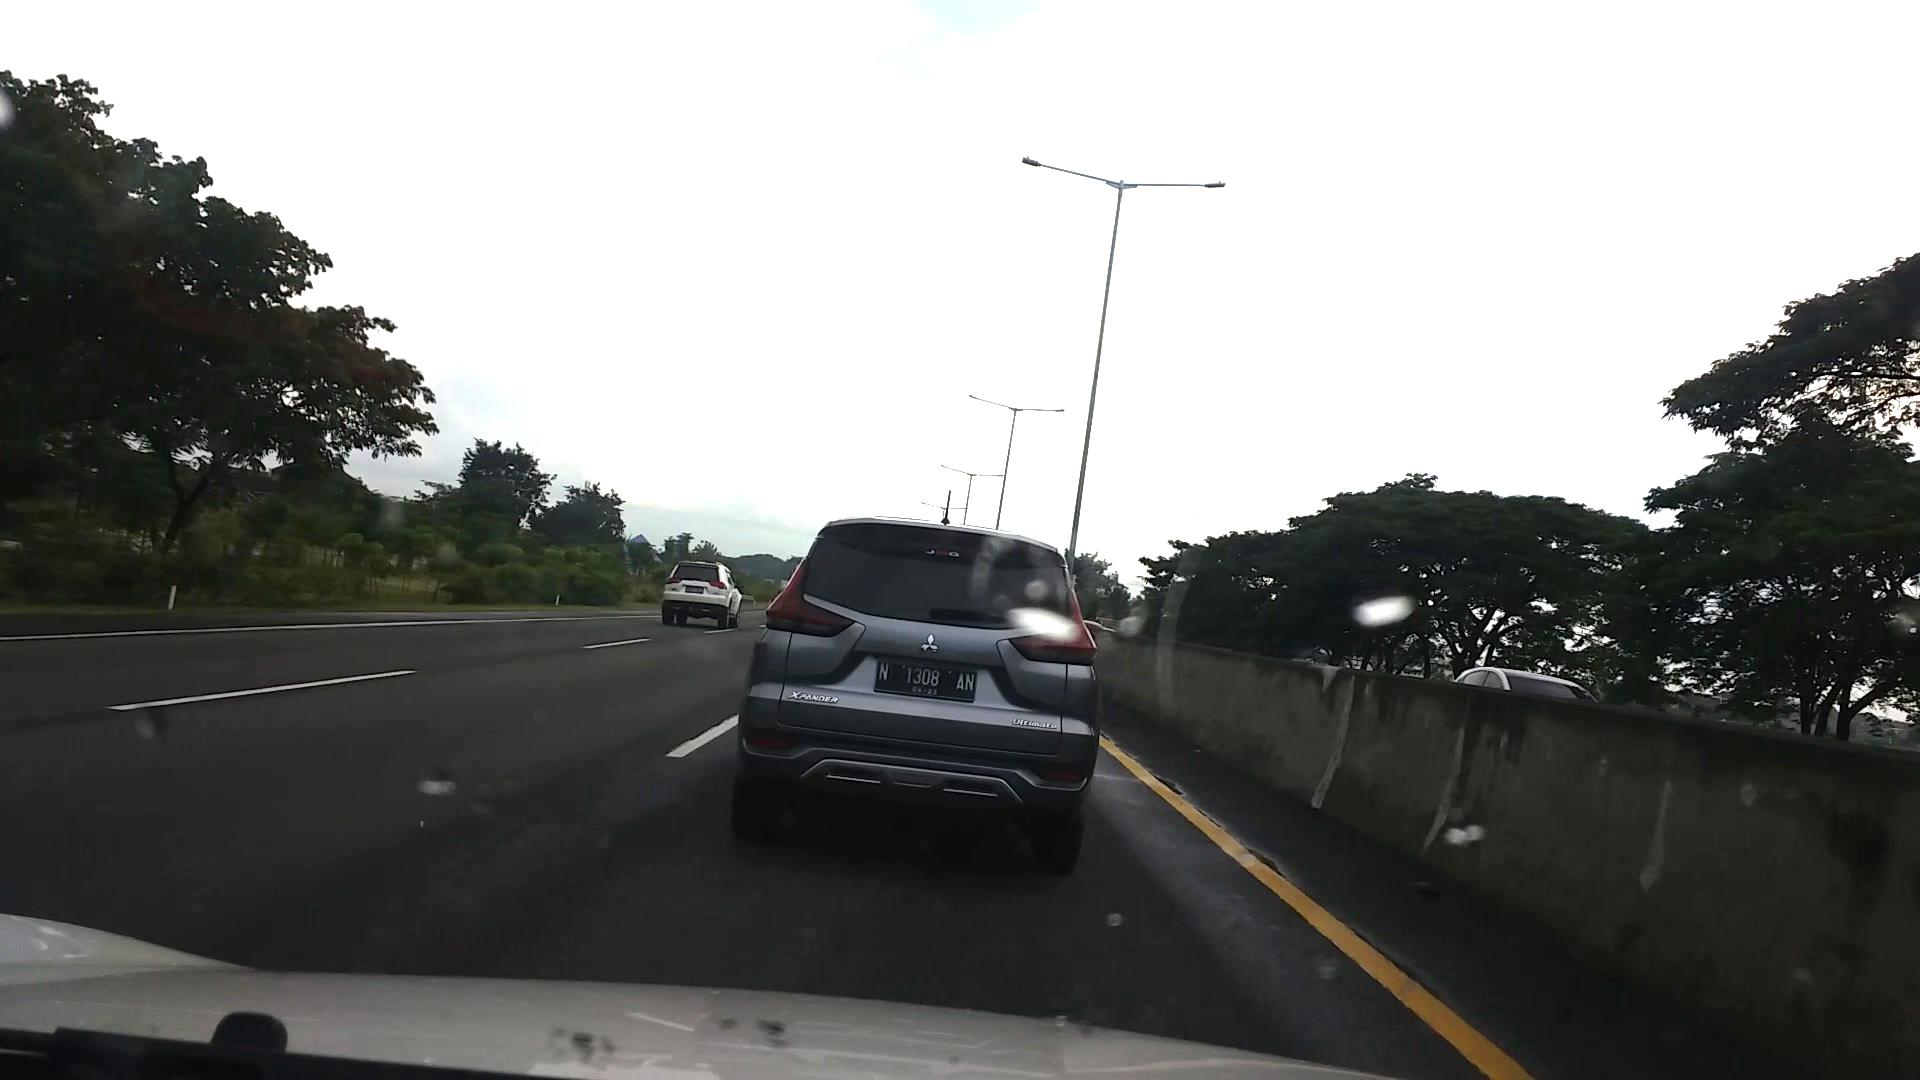plate_positive: (874, 658, 976, 698)
